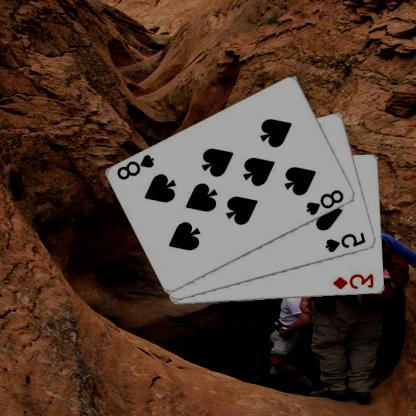3D: (332, 272, 377, 290)
5S: (325, 230, 369, 254)
8S: (306, 187, 348, 217), (116, 152, 157, 181)
